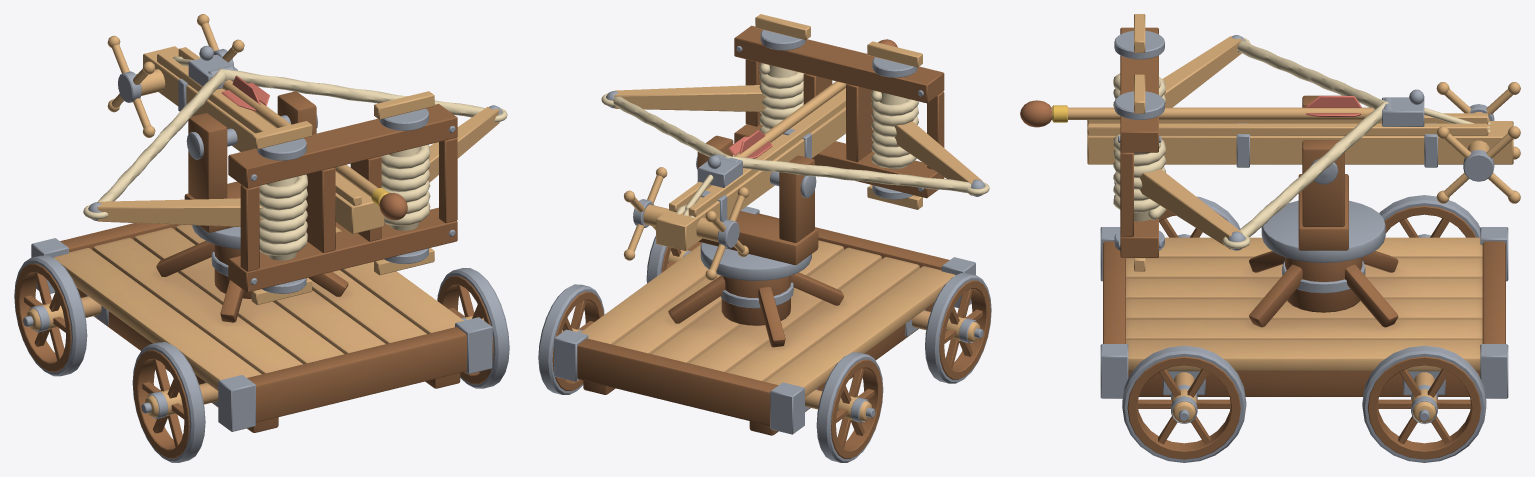
File: ballista.glb
The picture shows the model from 3 angles, left to right: view 1: azimuth 30°, elevation 25°; view 2: azimuth 150°, elevation 25°; view 3: azimuth 270°, elevation 25°; orthographic projection. The views are drawn at different scales.
Parts seen in each view (by area): view 1: ballista_crossbow, ballista_body, ballista_wheel_rear_left, ballista_wheel_front_left, ballista_turret, ballista_fittings, ballista_wheel_front_right; view 2: ballista_crossbow, ballista_body, ballista_turret, ballista_wheel_front_left, ballista_wheel_rear_left, ballista_fittings, ballista_wheel_rear_right, ballista_wheel_front_right; view 3: ballista_body, ballista_crossbow, ballista_turret, ballista_wheel_front_right, ballista_wheel_rear_right, ballista_fittings, ballista_wheel_rear_left, ballista_wheel_front_left.
Part boxes in pixels (left/top/right/bottom): ballista_crossbow: left=83, top=14, right=507, bottom=305; ballista_body: left=53, top=223, right=466, bottom=432; ballista_wheel_rear_left: left=14, top=255, right=87, bottom=376; ballista_wheel_front_left: left=132, top=342, right=205, bottom=462; ballista_turret: left=184, top=91, right=317, bottom=249; ballista_fittings: left=31, top=238, right=492, bottom=431; ballista_wheel_front_right: left=437, top=268, right=509, bottom=388; ballista_crossbow: left=601, top=14, right=989, bottom=280; ballista_body: left=577, top=213, right=955, bottom=435; ballista_turret: left=696, top=135, right=818, bottom=280; ballista_wheel_front_left: left=925, top=273, right=991, bottom=383; ballista_wheel_rear_left: left=816, top=352, right=883, bottom=462; ballista_fittings: left=554, top=206, right=975, bottom=434; ballista_wheel_rear_right: left=538, top=284, right=604, bottom=394; ballista_wheel_front_right: left=646, top=236, right=701, bottom=283; ballista_body: left=1103, top=237, right=1505, bottom=396; ballista_crossbow: left=1020, top=14, right=1520, bottom=271; ballista_turret: left=1261, top=95, right=1385, bottom=262; ballista_wheel_front_right: left=1122, top=345, right=1246, bottom=462; ballista_wheel_rear_right: left=1362, top=345, right=1486, bottom=462; ballista_fittings: left=1100, top=227, right=1508, bottom=398; ballista_wheel_rear_left: left=1379, top=195, right=1480, bottom=237; ballista_wheel_front_left: left=1159, top=196, right=1240, bottom=237.
Size of the model in its own units: 2.55 by 1.87 by 2.59.
Materials: 8 (1 with a texture image).
